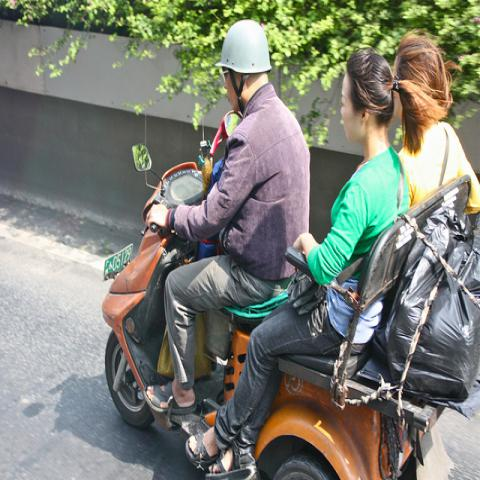motorcycle: (104, 139, 389, 479)
